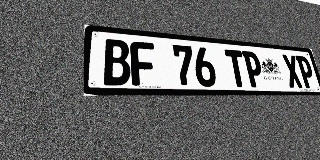6: (192, 46, 217, 87)
7: (171, 45, 197, 86)
B: (103, 39, 131, 86)
F: (130, 41, 157, 86)
P: (242, 51, 265, 87), (295, 55, 317, 88)
T: (224, 49, 248, 87)
X: (281, 54, 304, 88)
